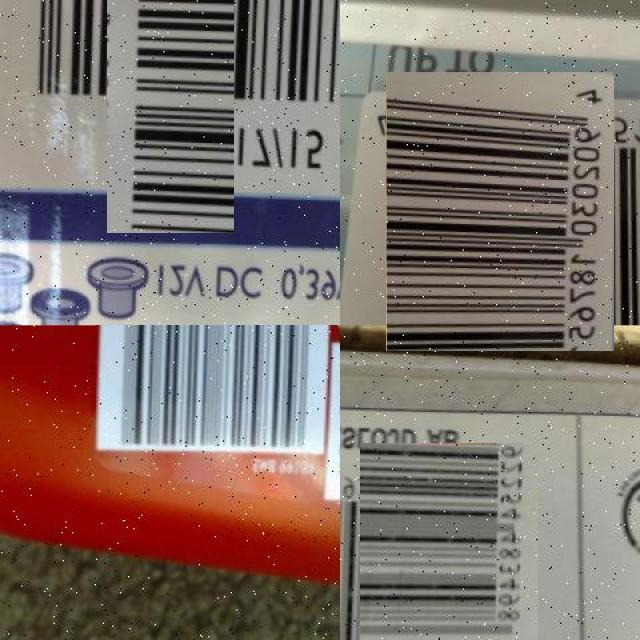Barcode: (373, 84, 627, 338), (54, 0, 287, 180), (350, 452, 548, 640), (96, 326, 340, 466)
